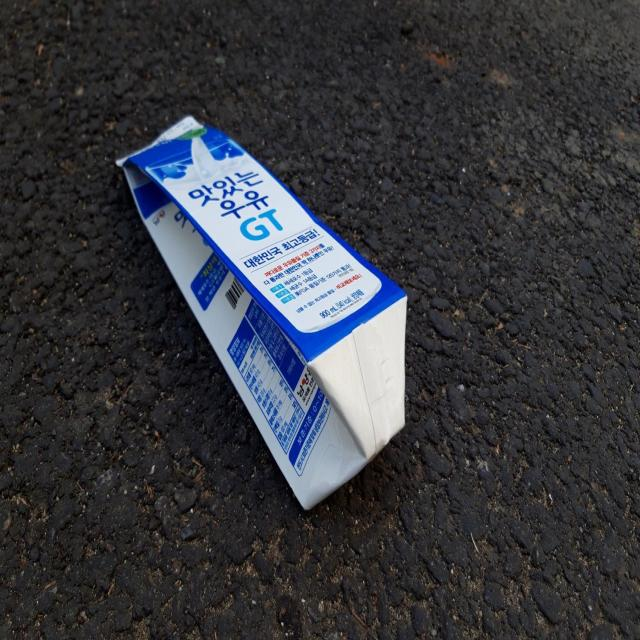paperpack: (116, 115, 406, 509)
